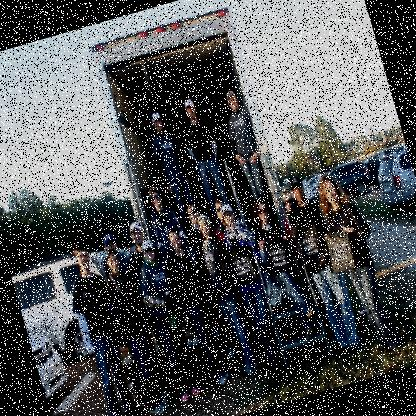Car: (10, 246, 126, 371), (299, 143, 415, 239), (27, 323, 74, 403), (100, 244, 132, 264), (94, 250, 109, 264), (36, 258, 50, 265), (60, 252, 71, 259)
